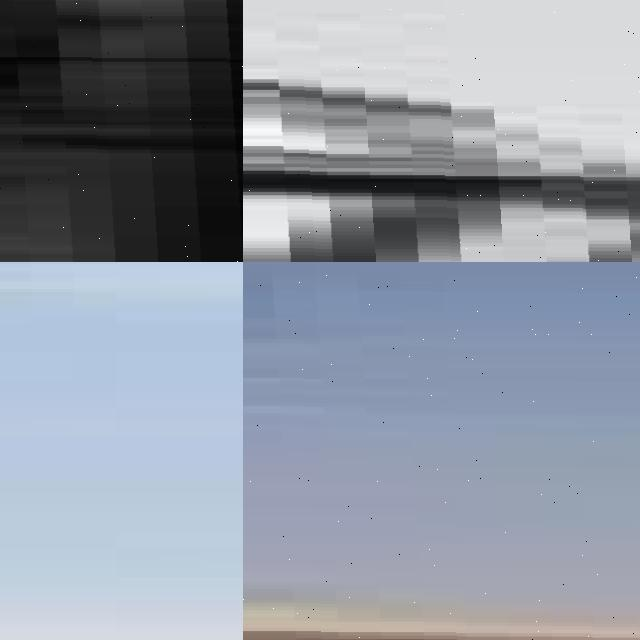street light: (243, 262, 640, 640), (243, 0, 640, 262), (0, 0, 243, 262)
